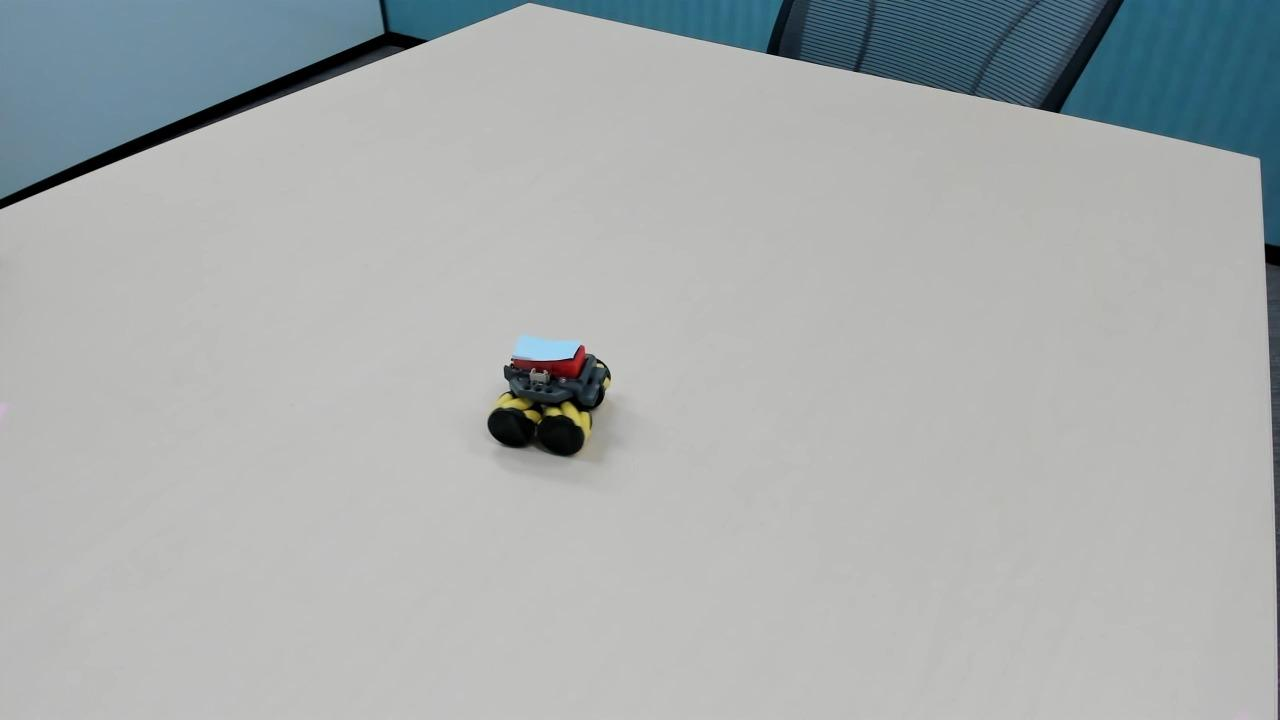B-Robot: (463, 319, 626, 470)
